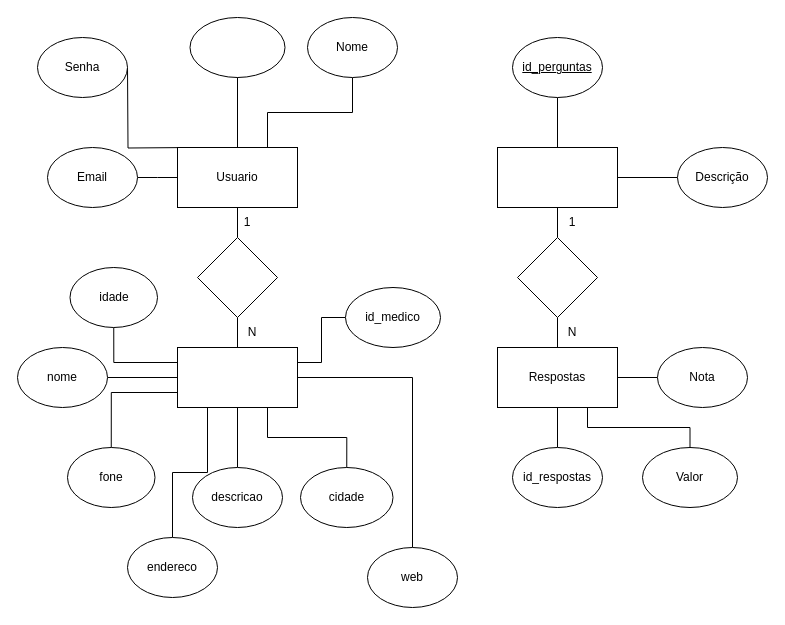
Image size: 785x625. Some labels were removed from this diagram. The shapes that lost their labels are listed below. From the top down, each one's box as (x1, y1, x2, y2) in pixels, then its label:
(189, 16, 285, 78): id_usuario
(496, 146, 618, 208): Perguntas
(196, 236, 278, 318): Consulta
(516, 236, 598, 318): Obtem
(176, 346, 298, 408): Medico
